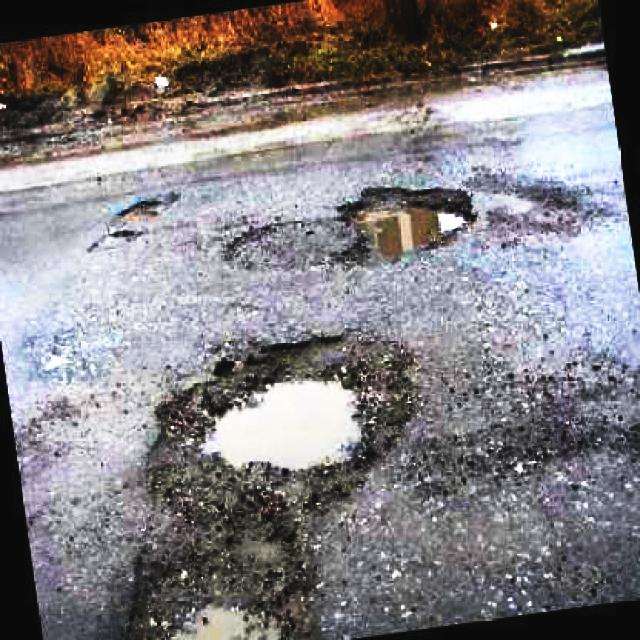pothole: (150, 326, 412, 522), (115, 531, 311, 640), (331, 178, 478, 274), (89, 184, 185, 253)
